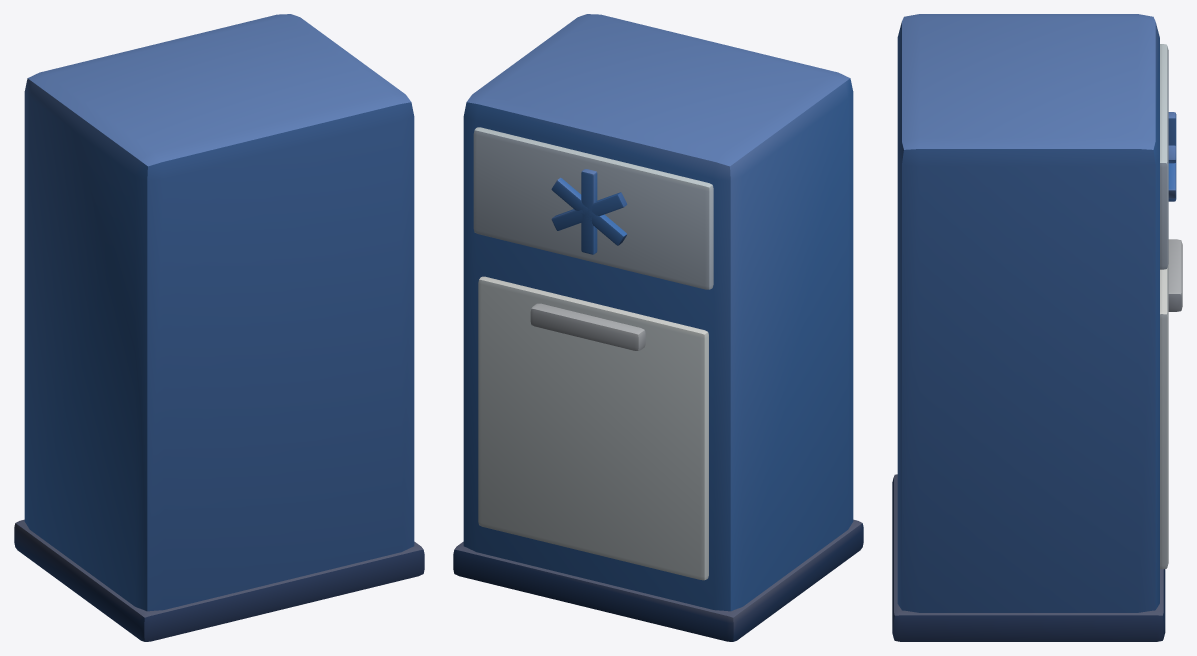
File: IceMachine.fbx
3 renders of one model, left to right at view 1: azimuth 30°, elevation 25°; view 2: azimuth 150°, elevation 25°; view 3: azimuth 270°, elevation 25°, orthographic. The views are drawn at different scales.
Parts seen in each view (by area): view 1: SM_Yard_IceMachine; view 2: SM_Yard_IceMachine; view 3: SM_Yard_IceMachine.
Part boxes in pixels (<box>): SM_Yard_IceMachine: <box>14,14,424,641</box>; SM_Yard_IceMachine: <box>453,14,863,641</box>; SM_Yard_IceMachine: <box>892,14,1182,641</box>.
Bounding box in the file's own units: 3.1 × 5 × 2.66.
